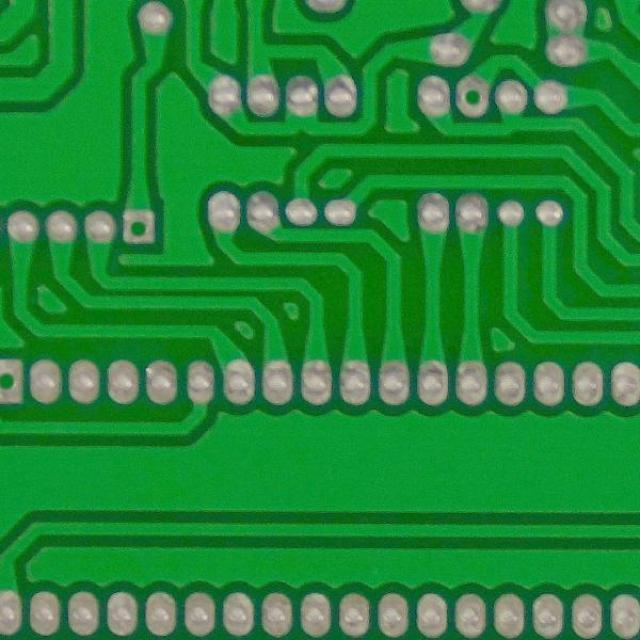Missing_Hole: (450, 73, 496, 119), (117, 206, 160, 247), (0, 353, 29, 408)
